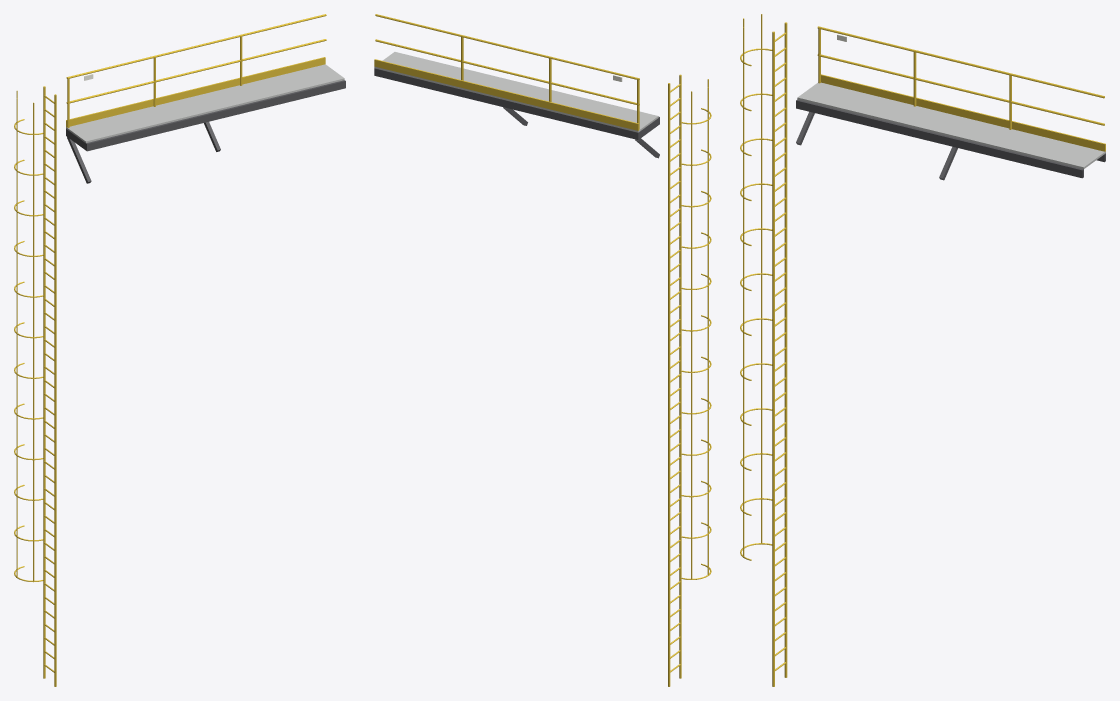
Rendered from SM_CraneRunwayWalkway.fbx.
The picture shows the model from 3 angles, left to right: view 1: azimuth 30°, elevation 25°; view 2: azimuth 150°, elevation 25°; view 3: azimuth 330°, elevation 25°; orthographic projection. The views are drawn at different scales.
Parts seen in each view (by area): view 1: CRW_Section, CRW_CageLadder; view 2: CRW_Section, CRW_CageLadder; view 3: CRW_Section, CRW_CageLadder.
Boxes of the visible parts, box(x1,y1,x2,y2) form: CRW_Section: box(66, 14, 345, 183); CRW_CageLadder: box(14, 86, 56, 686); CRW_Section: box(374, 14, 659, 158); CRW_CageLadder: box(668, 74, 711, 686); CRW_Section: box(796, 26, 1105, 180); CRW_CageLadder: box(740, 14, 787, 686).
Size of the model in its own units: 737 by 1312 by 87.63.
